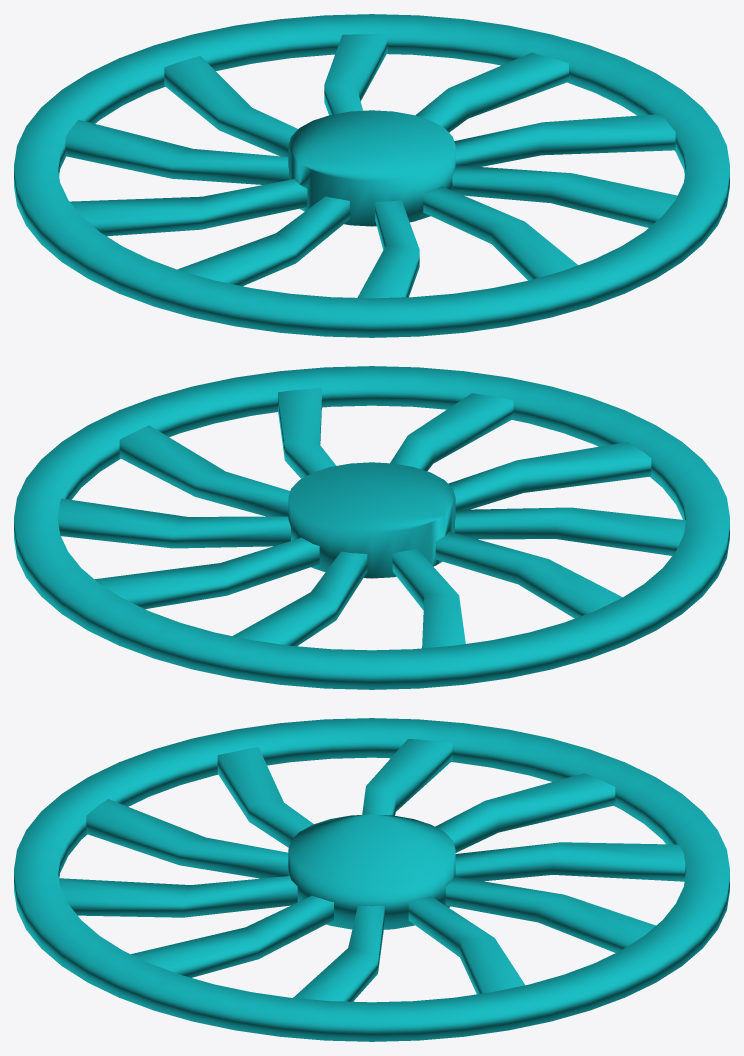
Rendered from wheel_right_teal.obj.
3 views of the same model, one above another, from view 1: azimuth 30°, elevation 25°; view 2: azimuth 150°, elevation 25°; view 3: azimuth 270°, elevation 25° (orthographic).
Visible parts, largest first — view 1: wheel_right_teal; view 2: wheel_right_teal; view 3: wheel_right_teal.
Boxes of the visible parts, x1,y1,x2,y2 form: wheel_right_teal: [14, 14, 729, 337]; wheel_right_teal: [14, 366, 729, 689]; wheel_right_teal: [14, 718, 729, 1041].
Size of the model in its own units: 0.0428 by 0.003 by 0.0428.
